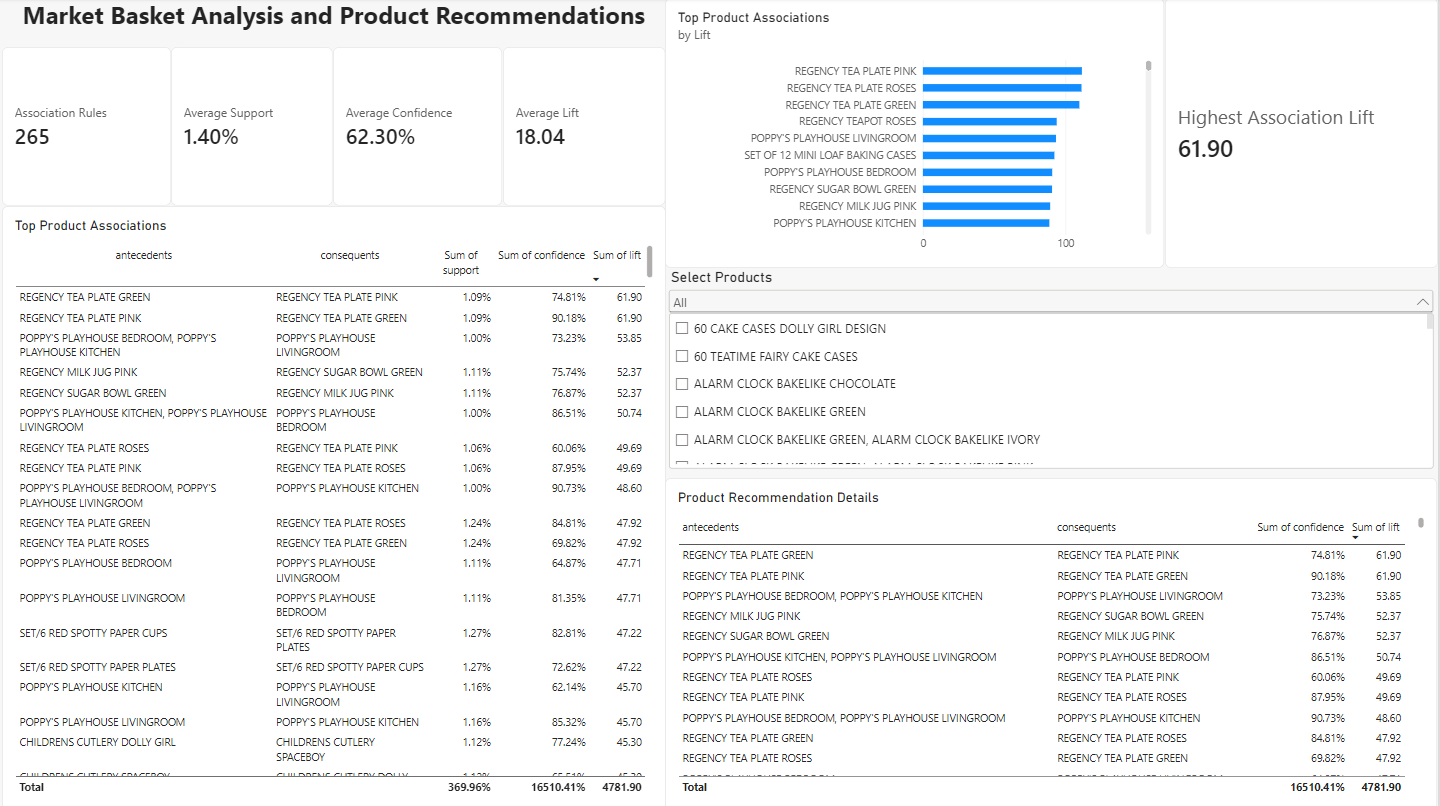

The page's visual inventory and layout, read from the dashboard file:
{"tool":"powerbi","page":{"name":"Market Basket Analysis","canvas":[1920,1080],"ordinal":2},"visuals":[{"type":"textbox","box":[10,0,882.9,65.7],"z":0},{"type":"cardVisual","fields":{"Data":["CountNonNull(recommendation_rules.antecedents)"]},"box":[10,65.7,225.7,211.4],"z":1000},{"type":"cardVisual","fields":{"Data":["Avg(recommendation_rules.support)"]},"box":[235.7,65.7,215.7,211.4],"z":2000},{"type":"cardVisual","fields":{"Data":["Avg(recommendation_rules.confidence)"]},"box":[451.4,65.7,225.7,211.4],"z":3000},{"type":"cardVisual","fields":{"Data":["Avg(recommendation_rules.lift)"]},"box":[677.1,65.7,216,211],"z":4000},{"type":"tableEx","title":"Top Product Associations","fields":{"Values":["recommendation_rules.antecedents","recommendation_rules.consequents","Sum(recommendation_rules.support)","Sum(recommendation_rules.confidence)","Sum(recommendation_rules.lift)"]},"box":[10,277.1,882.9,802.9],"z":5000},{"type":"clusteredBarChart","fields":{"Category":["recommendation_rules.antecedents"],"Y":["Sum(recommendation_rules.lift)"]},"box":[892.9,0,664.3,358.6],"z":6000},{"type":"slicer","fields":{"Values":["recommendation_rules.antecedents"]},"box":[892.9,358.6,1027.1,280],"z":7000},{"type":"tableEx","title":"Product Recommendation Details","fields":{"Values":["recommendation_rules.antecedents","recommendation_rules.consequents","Sum(recommendation_rules.confidence)","Sum(recommendation_rules.lift)"]},"box":[892.9,638.6,1027.1,441.4],"z":7001},{"type":"cardVisual","fields":{"Data":["Max(recommendation_rules.lift)"]},"box":[1557,0,363,359],"z":7002}]}

Visuals, with their boxes in screenshot pixels (x1, y1, x2, y2), scaled from the page's 1920x1080 canvas onto the 1440x806 screenshot:
textbox: [8,0,670,49]
cardVisual - CountNonNull(recommendation_rules.antecedents): [8,49,177,207]
cardVisual - Avg(recommendation_rules.support): [177,49,339,207]
cardVisual - Avg(recommendation_rules.confidence): [339,49,508,207]
cardVisual - Avg(recommendation_rules.lift): [508,49,670,207]
"Top Product Associations" tableEx: [8,207,670,805]
clusteredBarChart - recommendation_rules.antecedents x Sum(recommendation_rules.lift): [670,0,1168,268]
slicer - recommendation_rules.antecedents: [670,268,1439,477]
"Product Recommendation Details" tableEx: [670,477,1439,805]
cardVisual - Max(recommendation_rules.lift): [1168,0,1439,268]
